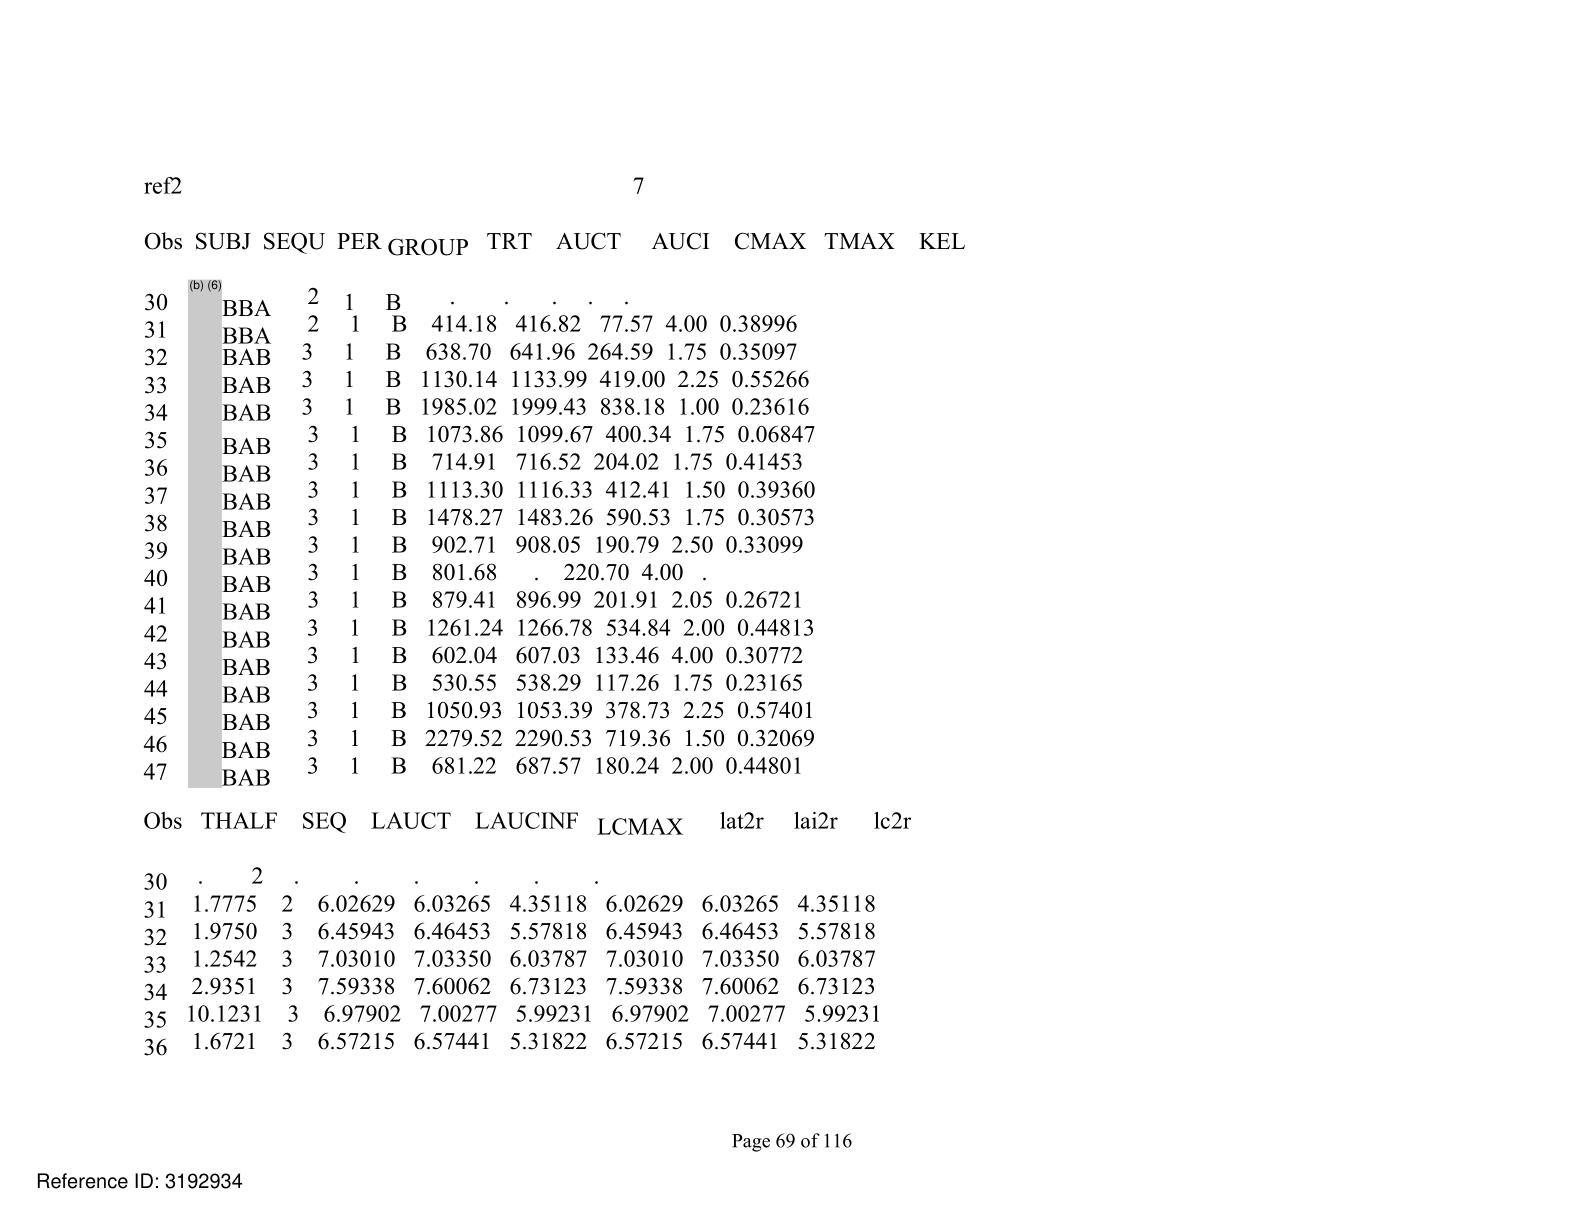nolines: (140, 229, 967, 789), (141, 809, 912, 1058)
